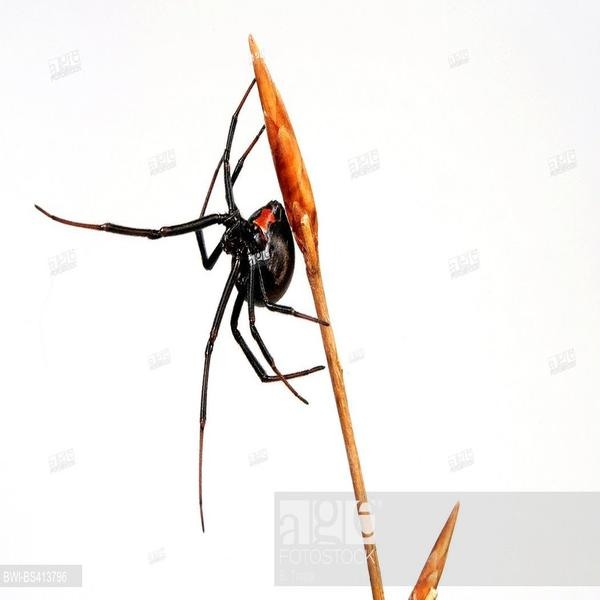Redback Spider: (37, 74, 330, 514)
